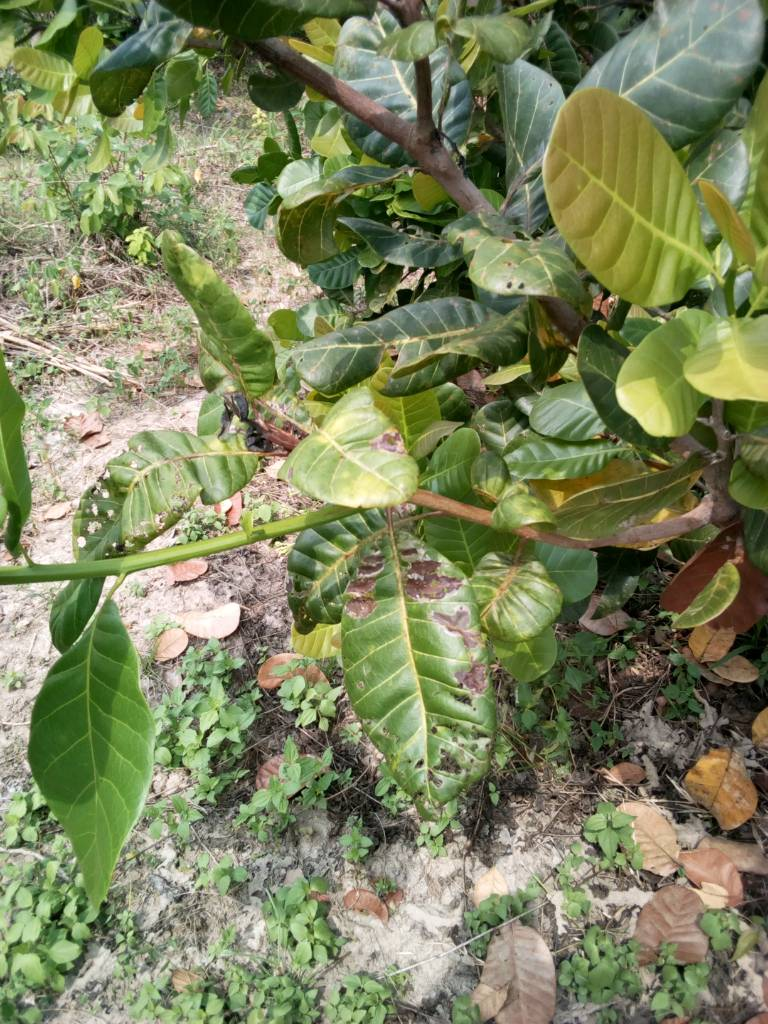Dysdercus wolkerii: (319, 528, 525, 833)
